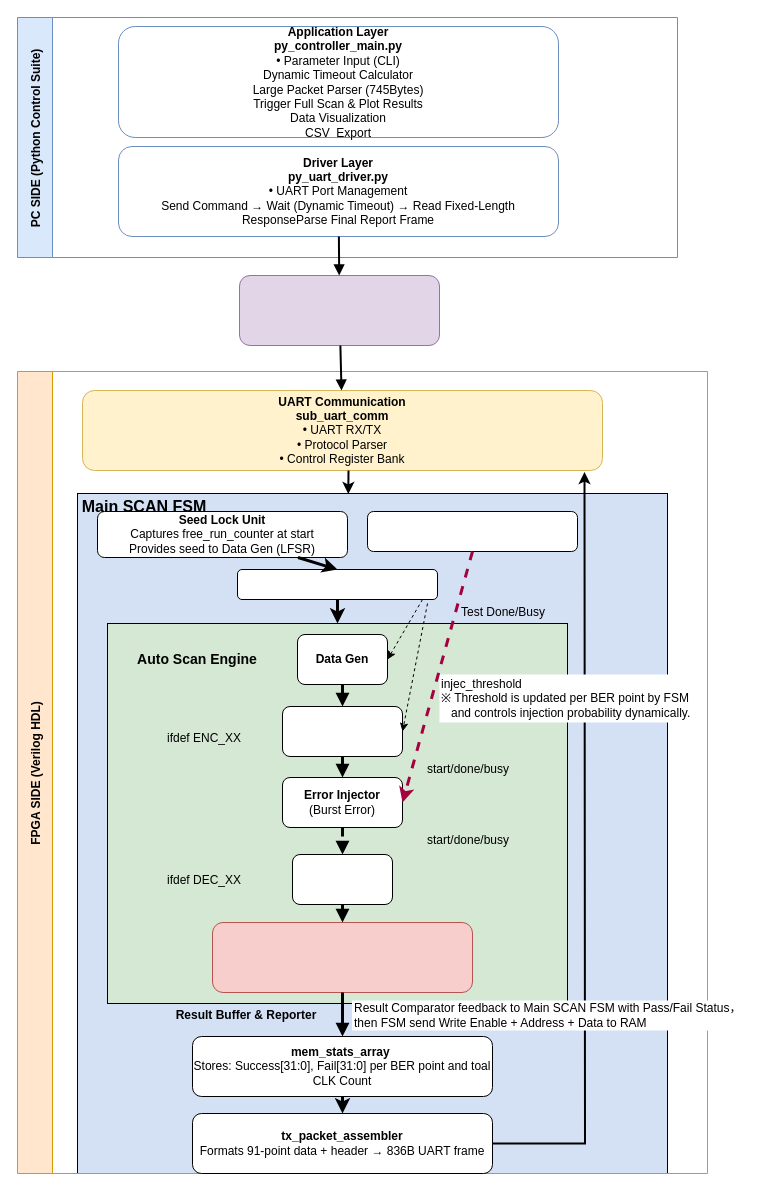
This 775x1191 diagram has some shape labels left out. The shapes that lost their labels are listed below. From the top down, each one's centre as x and y in pixels, then its label:
At point 339,310: "UART Physical Link USB-TTL 115200+ Bps".
At point 472,531: "rom_threshold_ctrl (Look-up Table based on BER_Idx)".
At point 337,584: "Para configure".
At point 342,731: "Encoder (RS / C-RRNS / 3NRM / 2NRM)".
At point 342,879: "Decoder".
At point 342,957: "Result Comparator Pass / Fail Latency Measure".
